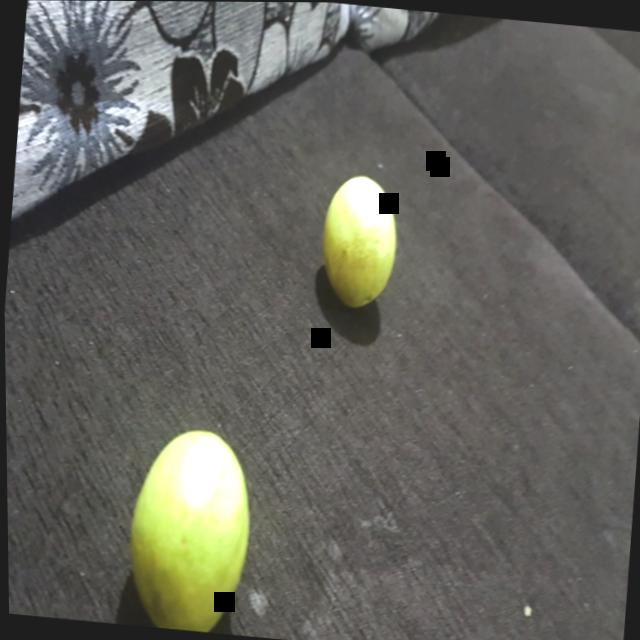lemon: (110, 411, 277, 637), (304, 166, 412, 327)
